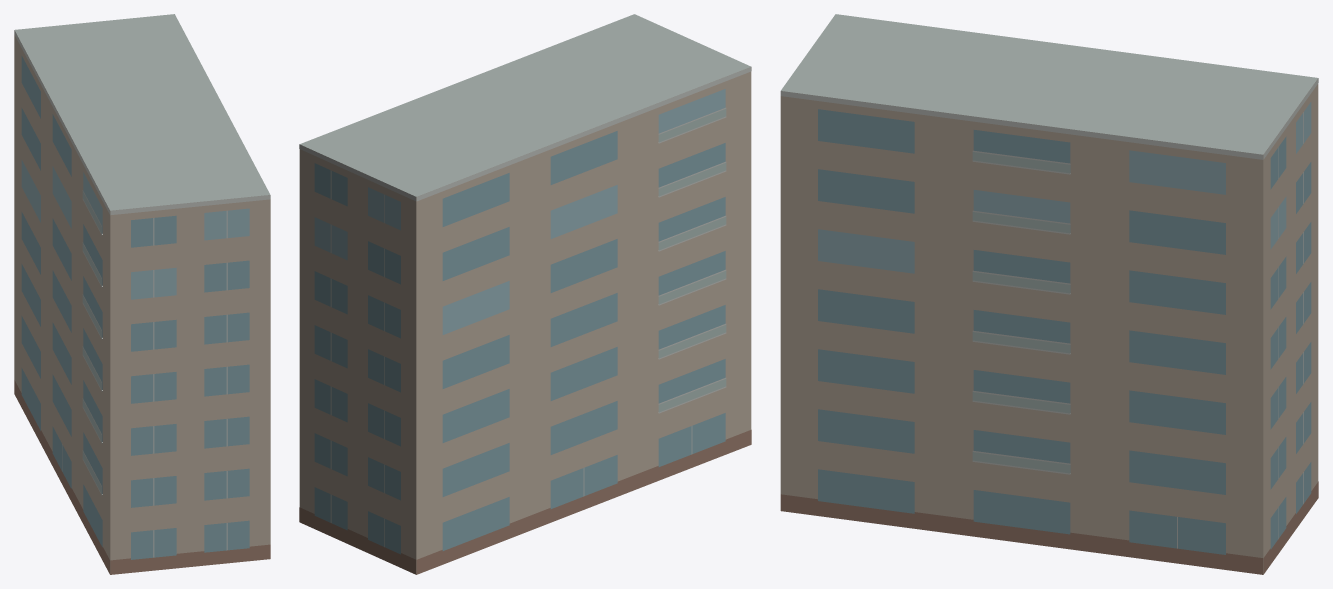
Rendered from survey-upis-32528321.glb.
3 views of the same model, side by side, from view 1: azimuth 30°, elevation 25°; view 2: azimuth 150°, elevation 25°; view 3: azimuth 270°, elevation 25° (orthographic). The views are drawn at different scales.
Parts seen in each view (by area): view 1: survey-upis-32528321.tmp; view 2: survey-upis-32528321.tmp; view 3: survey-upis-32528321.tmp.
Part boxes in pixels (<box>): survey-upis-32528321.tmp: <box>14,14,270,574</box>; survey-upis-32528321.tmp: <box>299,14,751,574</box>; survey-upis-32528321.tmp: <box>780,14,1318,574</box>.
Bounding box in the file's own units: 14.13 × 19.65 × 22.81.
